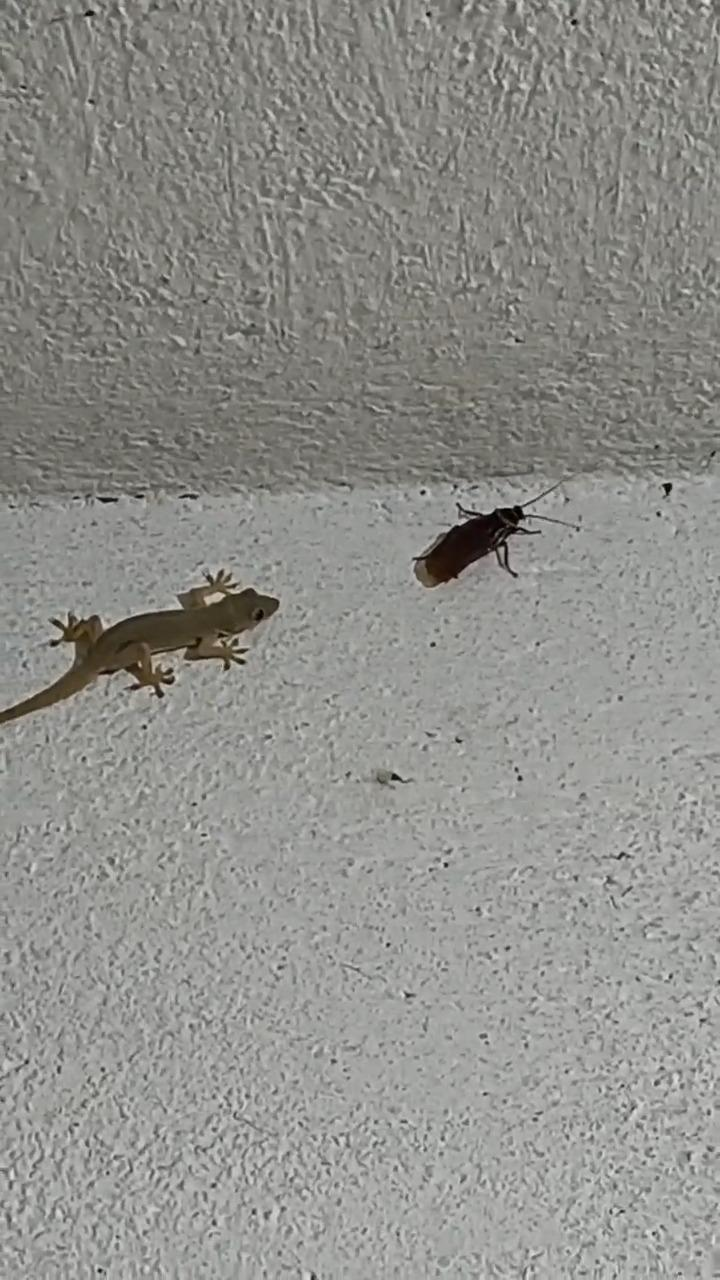cockroach: (398, 486, 571, 598)
lizard: (0, 556, 293, 734)
